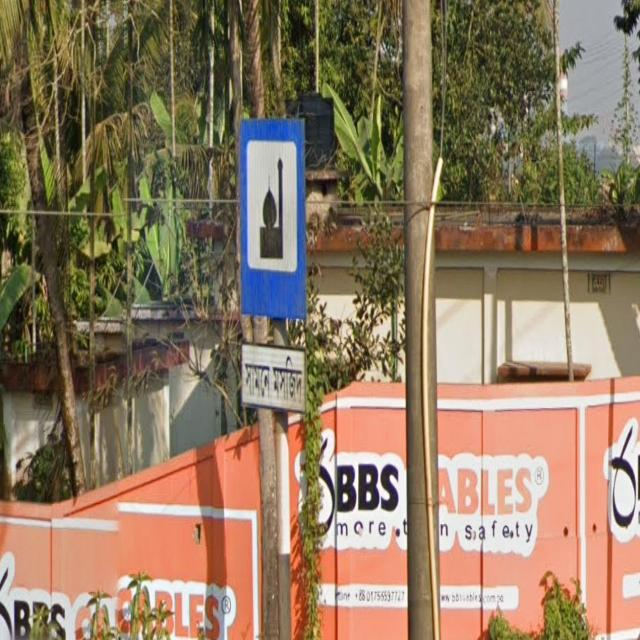Mosque in front: (237, 113, 311, 419)
